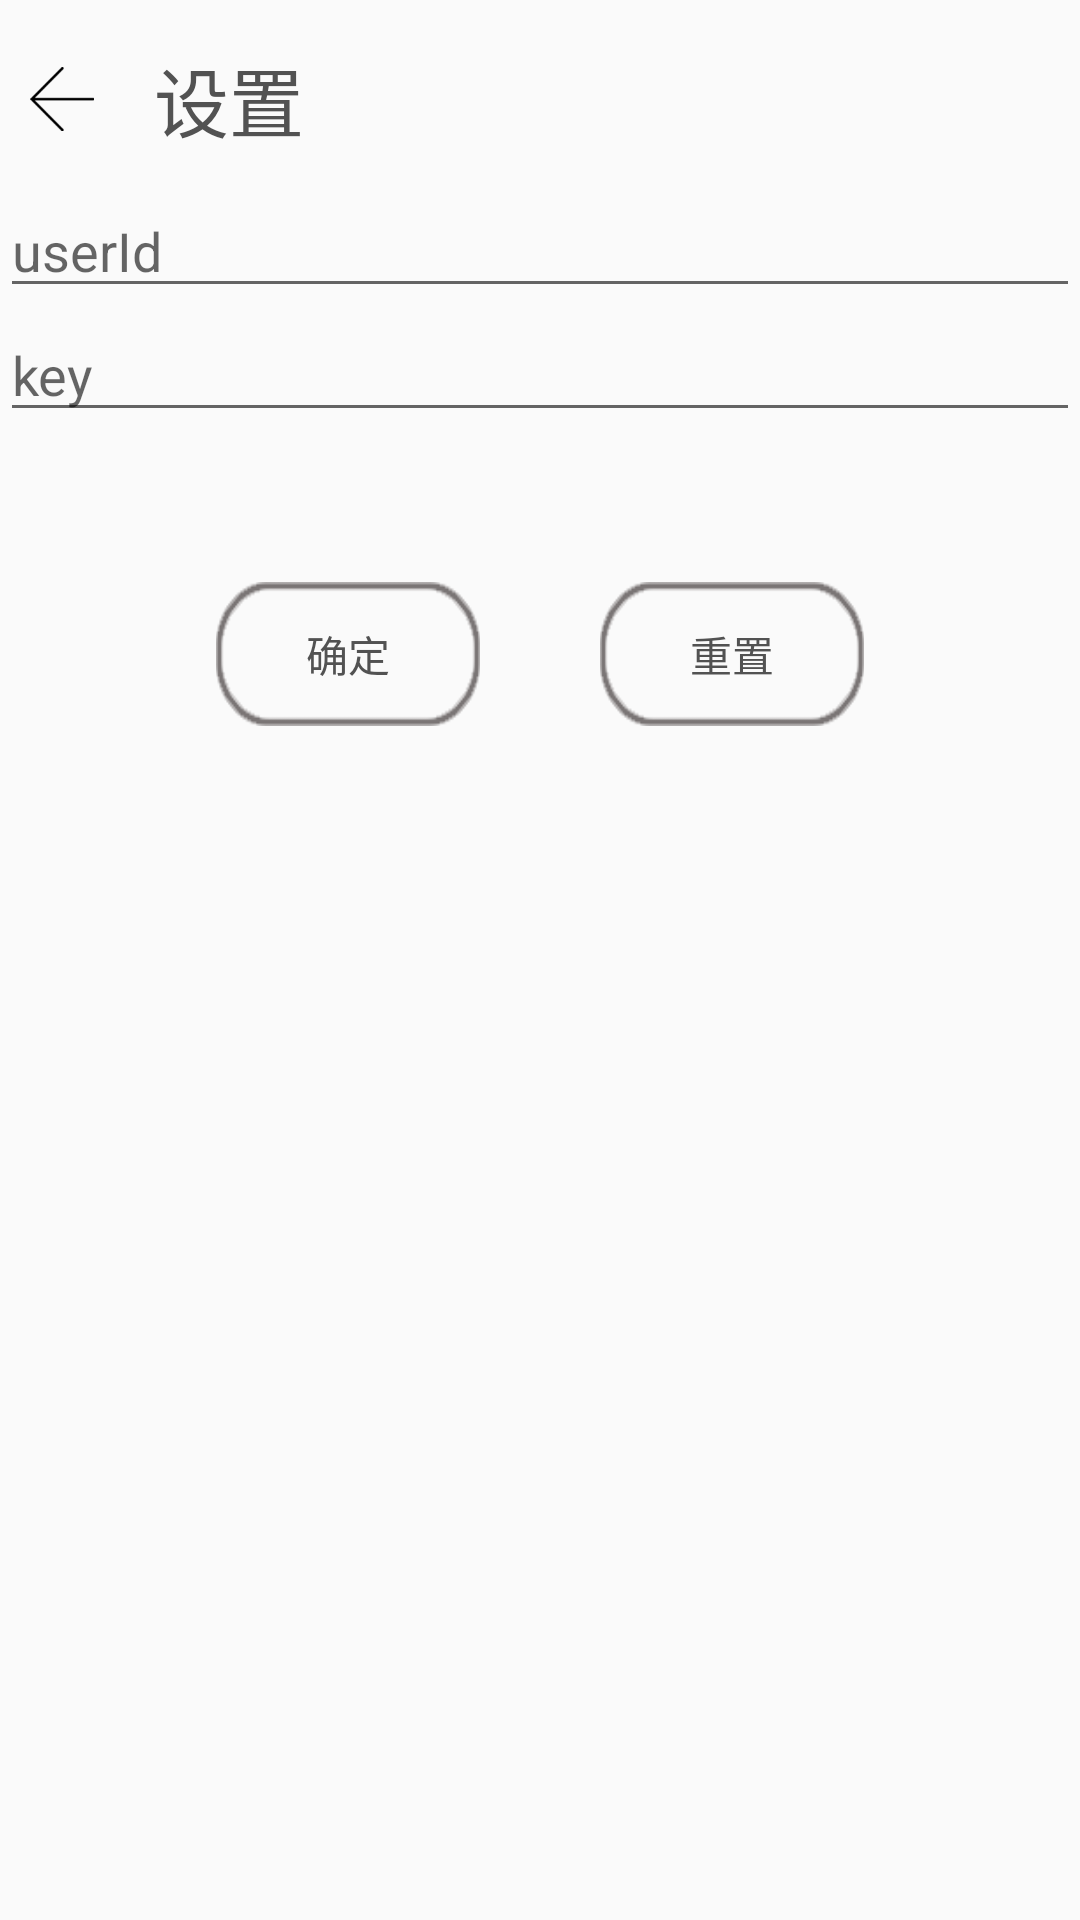

Icons on this 1080px x 1920px Android screen, each with the point to tap as [x,y]:
back: [62,99]
